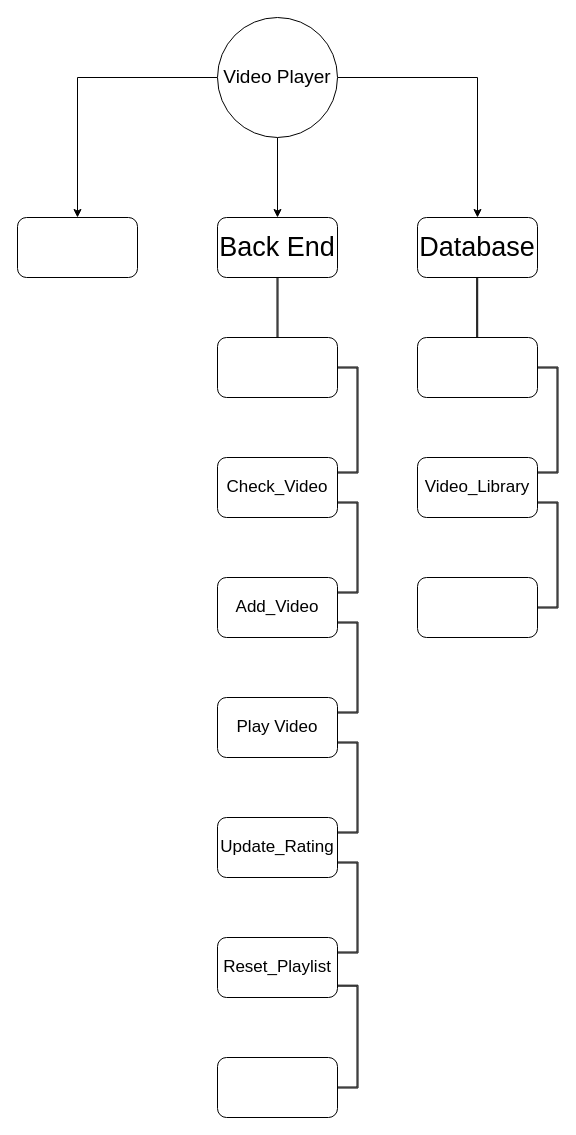
This 576x1135 diagram has some shape labels left out. The shapes that lost their labels are listed below. From the top down, each one's centre as x and y in pixels, then its label:
(77,247): Front End
(277,367): List_Video
(477,367): Font_Mananger
(477,607): Library_Item
(277,1087): EXIT
